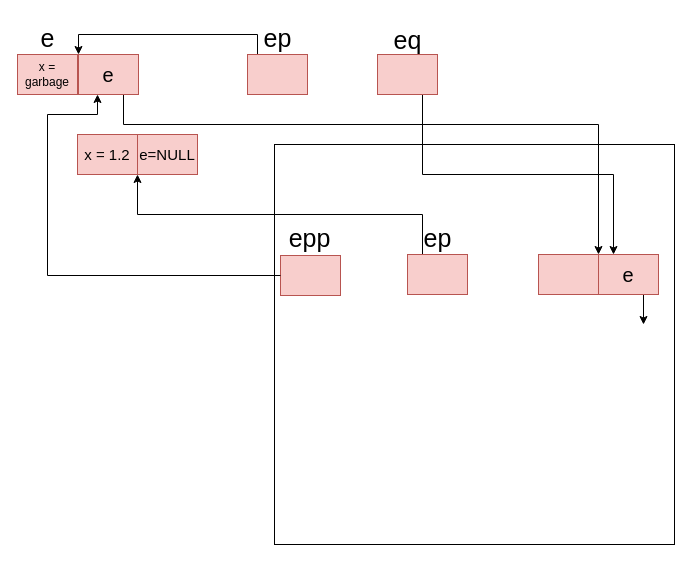
The diagram is 692 pixels wide and 562 high, and some of its shapes have lost their labels. The box of each missing label's shape, as (x1, y1, x2, y2) in pixels:
FUNCTION: (274, 144, 674, 544)
x= garbage: (538, 254, 598, 294)
